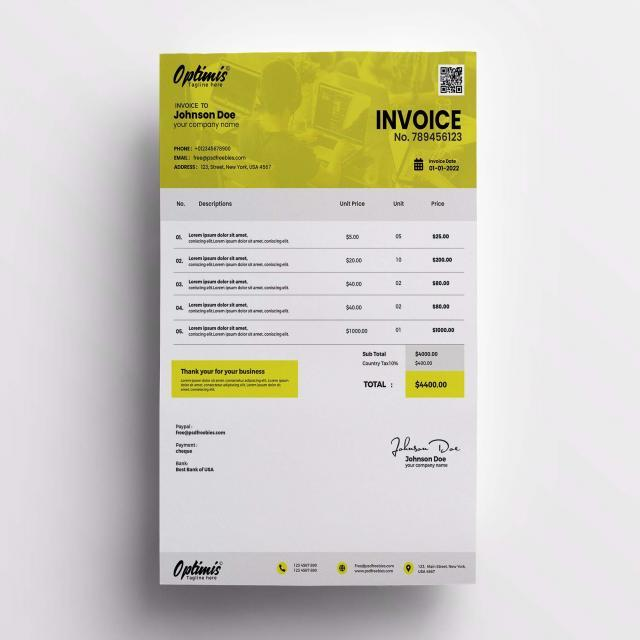customer_address: (200, 163, 274, 172)
customer_name: (172, 108, 243, 120)
invoice_date: (427, 165, 462, 174)
invoice_number: (409, 130, 466, 144)
invoice_subtotal: (412, 347, 444, 357)
invoice_total: (410, 376, 453, 392)
item_description: (185, 233, 293, 342)
item_quantity: (389, 231, 410, 334)
item_total_price: (427, 224, 459, 335)
item_unit_price: (338, 225, 366, 337)
supplier_address: (416, 563, 467, 576)
tax_amount: (412, 359, 442, 368)
